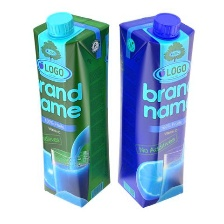carton: (115, 9, 212, 207), (31, 8, 115, 211)
